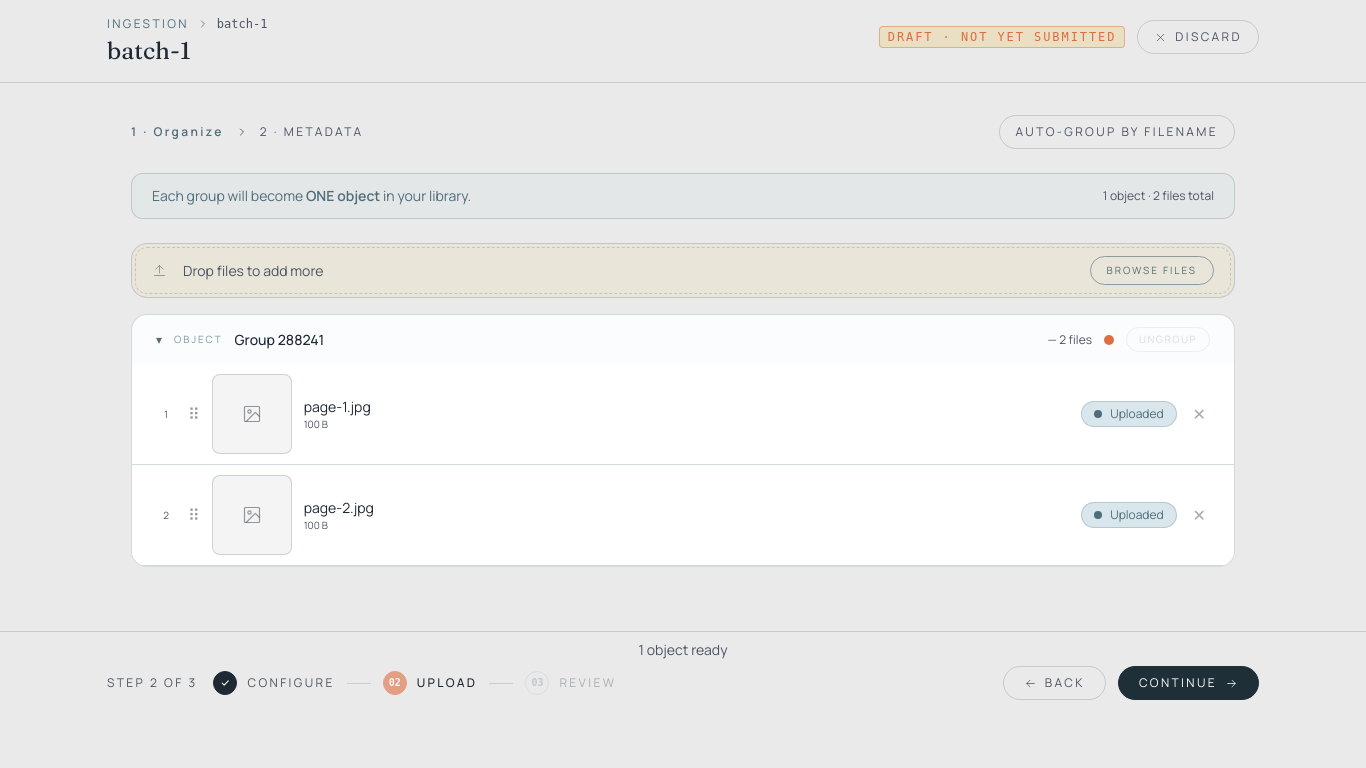
Scenario: /ingestion/[batchId]/setup +page.svelte › uses the batch ID as the effective title when the editable default is blank
Click the button "Continue": (1188, 683) x1=1118 y1=666 x2=1259 y2=700
(page scrolled)
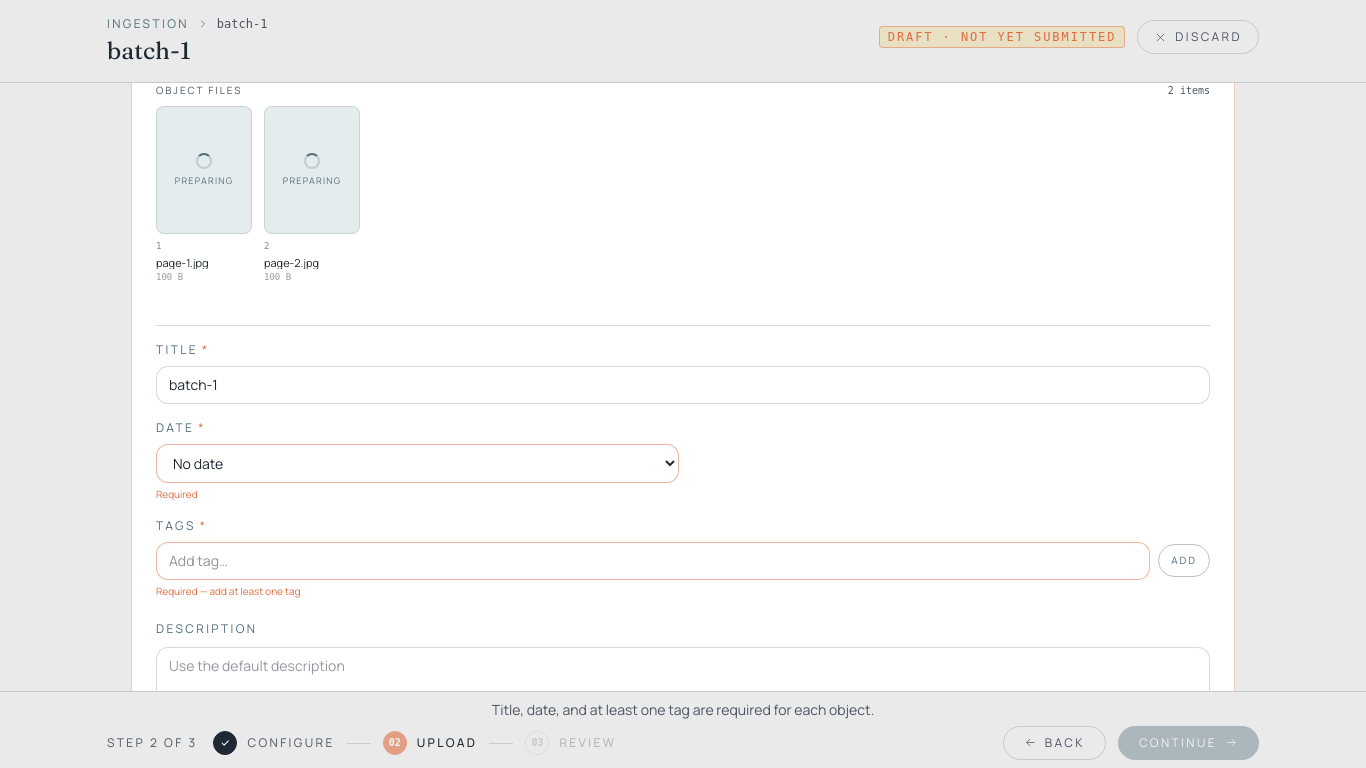
Expected: the field labelled "Title *" holds "batch-1"
In the field labelled "Title *": (683, 385) x1=156 y1=366 x2=1210 y2=404, type "Changed object"
(page scrolled)
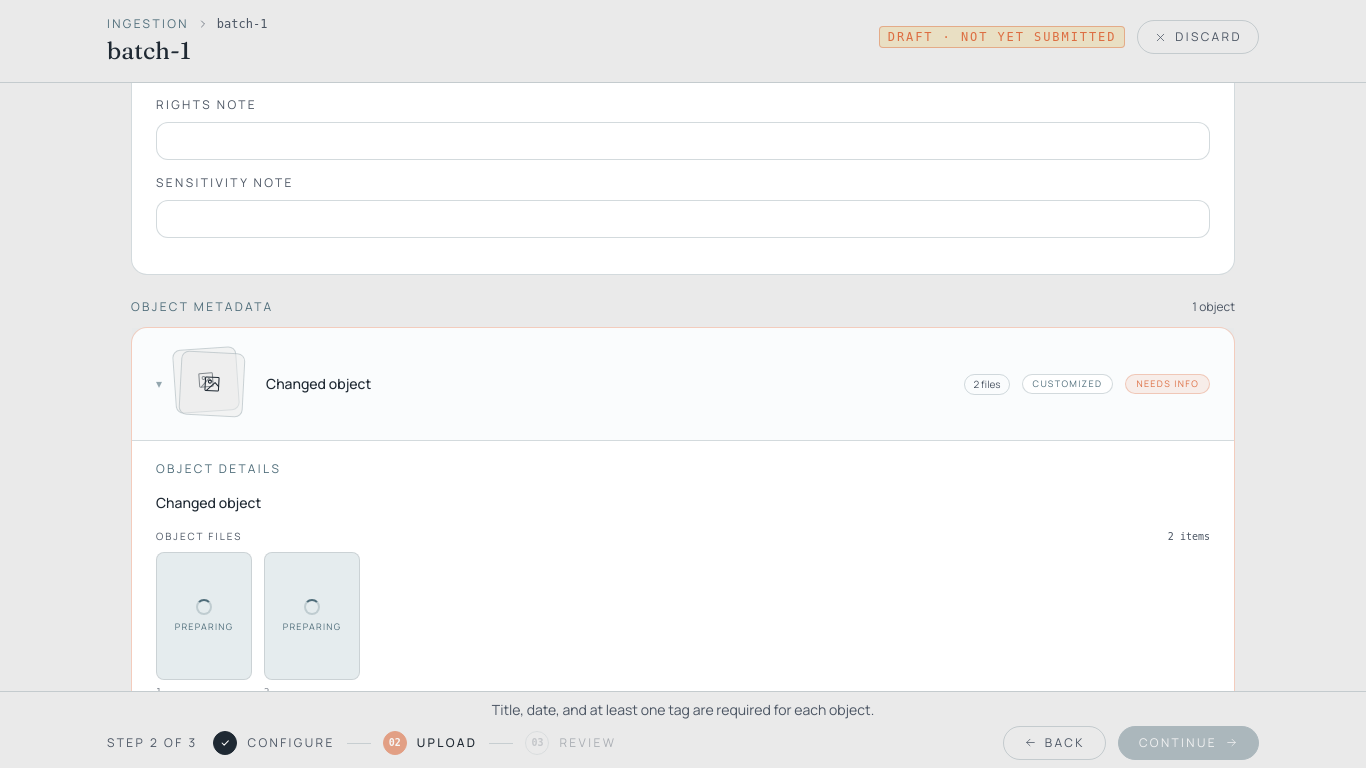
Expected: the text "Customized" is shown, x1=1022 y1=374 x2=1113 y2=394
Expected: the 1st text "Changed object" is shown, x1=266 y1=374 x2=371 y2=393
